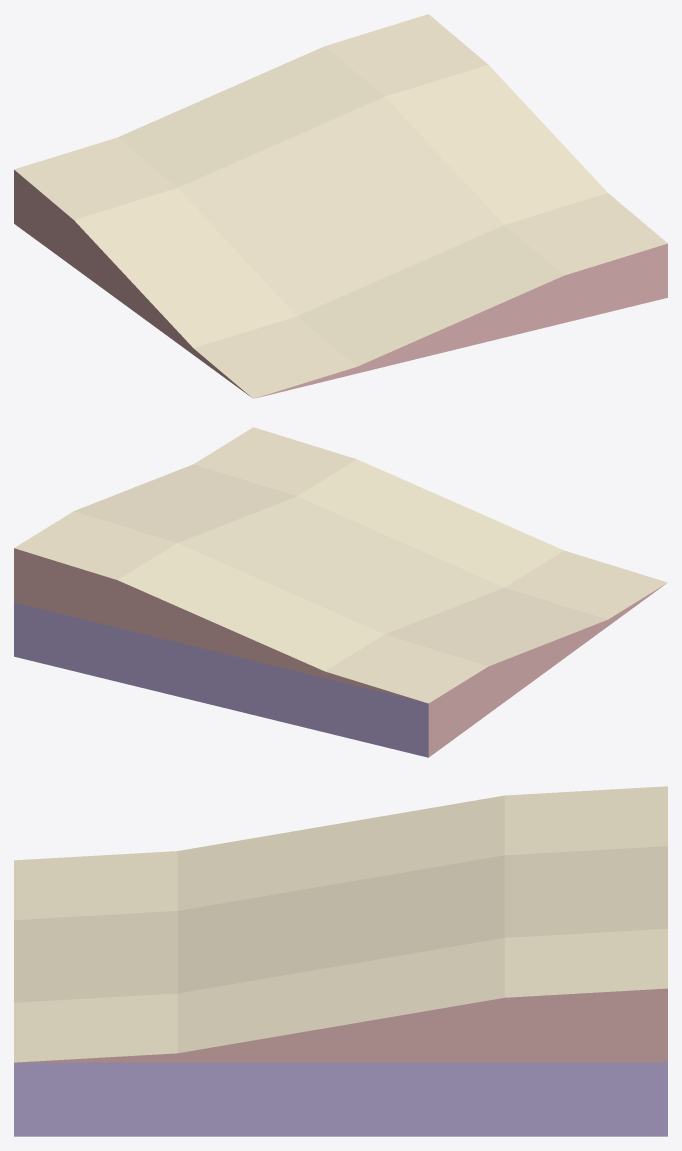
The model's file is Terrain_Sand_Incline_Overlapping_4x4.glb.
3 renders of one model, top to bottom at view 1: azimuth 30°, elevation 25°; view 2: azimuth 150°, elevation 25°; view 3: azimuth 270°, elevation 25°, orthographic. The views are drawn at different scales.
Visible parts, largest first — view 1: Terrain_Sand_Incline_Overlapping_4x4; view 2: Terrain_Sand_Incline_Overlapping_4x4; view 3: Terrain_Sand_Incline_Overlapping_4x4.
Boxes of the visible parts, x1=… form: Terrain_Sand_Incline_Overlapping_4x4: x1=14, y1=14, x2=667, y2=398; Terrain_Sand_Incline_Overlapping_4x4: x1=14, y1=427, x2=667, y2=757; Terrain_Sand_Incline_Overlapping_4x4: x1=14, y1=786, x2=667, y2=1136.
Bounding box in the file's own units: 400 × 100 × 400.
